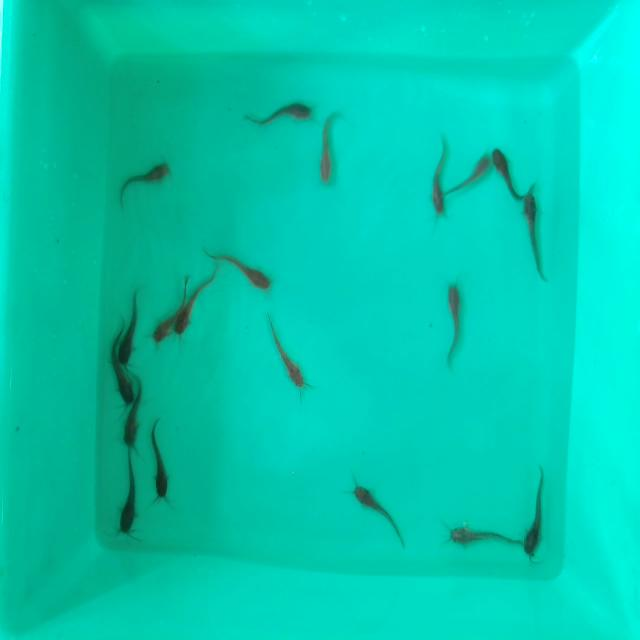lele: (354, 482, 401, 536), (176, 275, 217, 336), (270, 332, 310, 391), (242, 97, 316, 127), (117, 281, 143, 363), (523, 188, 545, 283), (120, 157, 175, 195), (218, 252, 271, 291), (524, 462, 544, 559), (442, 284, 463, 368), (493, 148, 530, 192), (150, 424, 170, 504), (152, 294, 181, 348), (428, 136, 448, 214), (119, 458, 139, 536), (448, 525, 520, 546), (318, 114, 339, 184), (448, 155, 492, 185), (110, 360, 132, 405), (122, 402, 142, 449)
